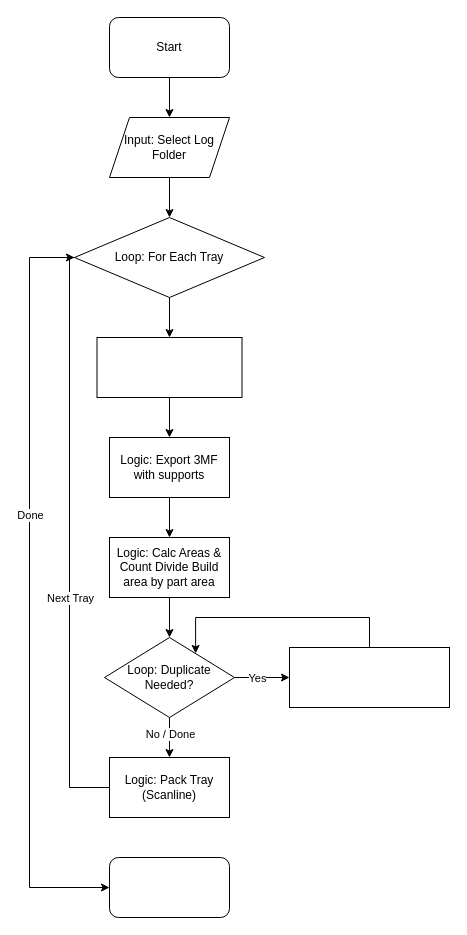
The diagram is 467 pixels wide and 935 high, and some of its shapes have lost their labels. The box of each missing label's shape, as (x1, y1, x2, y2) in pixels:
End: (108, 856, 230, 918)
Logic: Cleanup delete any previous duplicates (Keep Mesh 0): (96, 336, 242, 398)
Process: Split -> Export Temp -> Import -> Assign Support: (288, 646, 450, 708)
